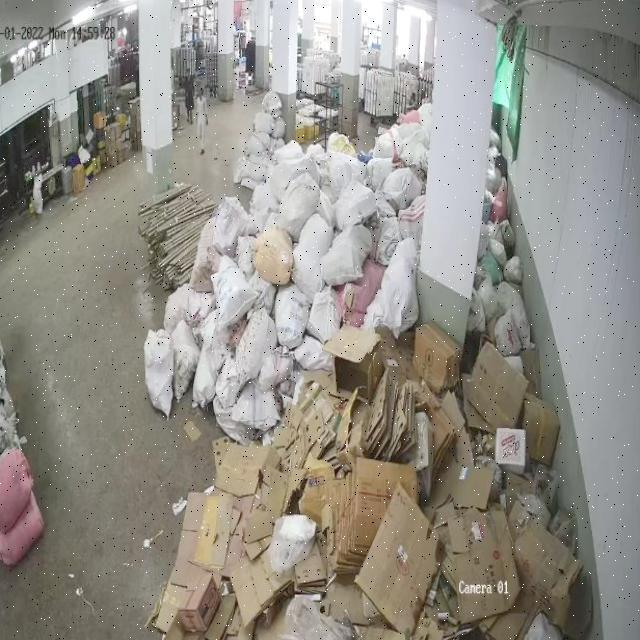person: (198, 88, 210, 154), (184, 63, 196, 124)
